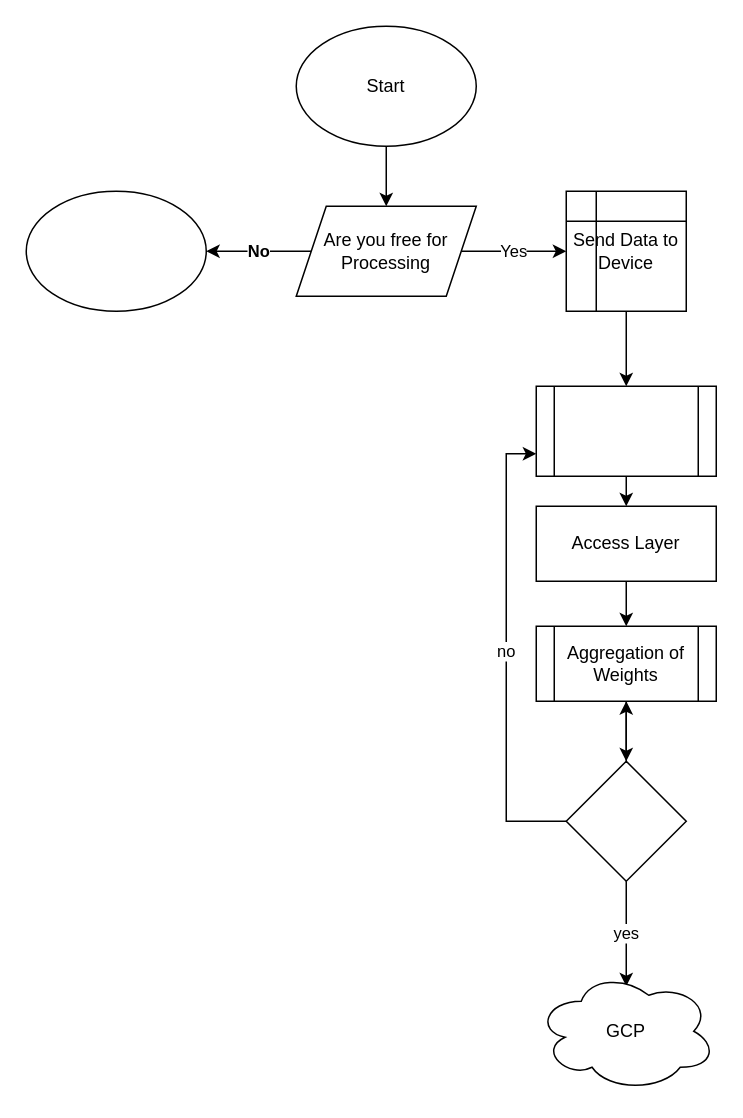
Some shapes in this 743 by 1118 pixel diagram are drawn without their labels. The box of each missing label's shape, as (x1, y1, x2, y2) in pixels:
End: (25, 190, 206, 311)
If acc>95%: (565, 760, 686, 881)
Training on Device: (535, 385, 716, 476)
